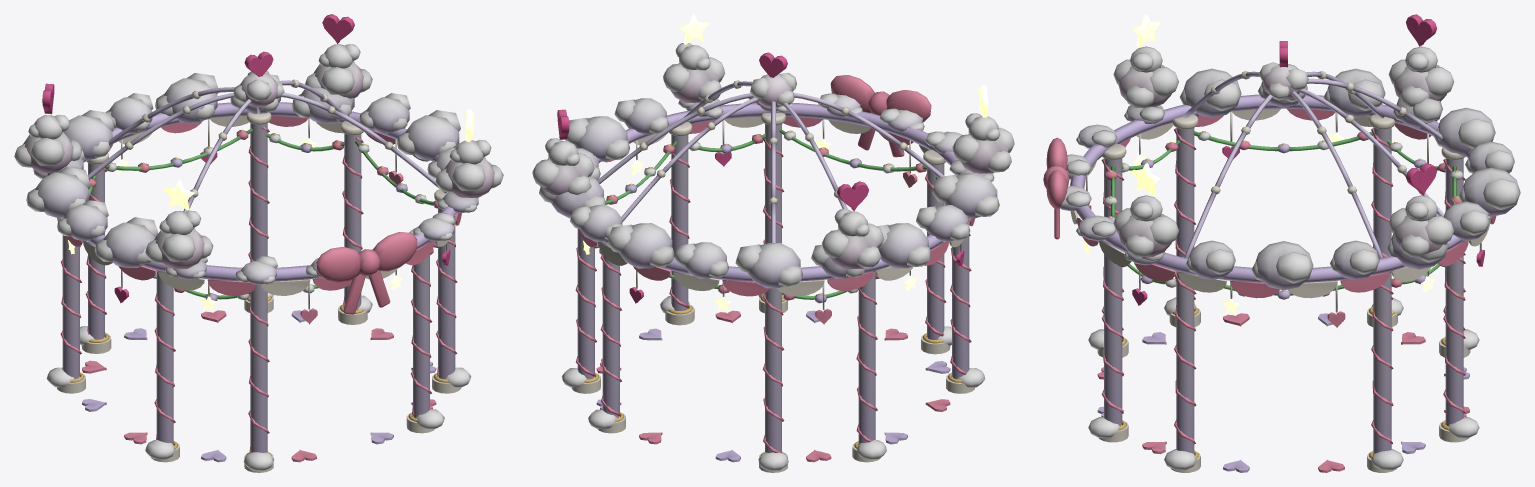
The model's file is spawn-gazebo.glb.
The picture shows the model from 3 angles, left to right: view 1: azimuth 30°, elevation 25°; view 2: azimuth 150°, elevation 25°; view 3: azimuth 270°, elevation 25°; orthographic projection. The views are drawn at different scales.
Visible parts, largest first — view 1: SPAWN_GAZEBO__clouds; view 2: SPAWN_GAZEBO__clouds; view 3: SPAWN_GAZEBO__clouds.
Boxes of the visible parts, x1,y1,x2,y2 form: SPAWN_GAZEBO__clouds: [14, 14, 503, 472]; SPAWN_GAZEBO__clouds: [532, 14, 1014, 472]; SPAWN_GAZEBO__clouds: [1043, 14, 1520, 472].
Size of the model in its own units: 2 by 1.58 by 1.95.
